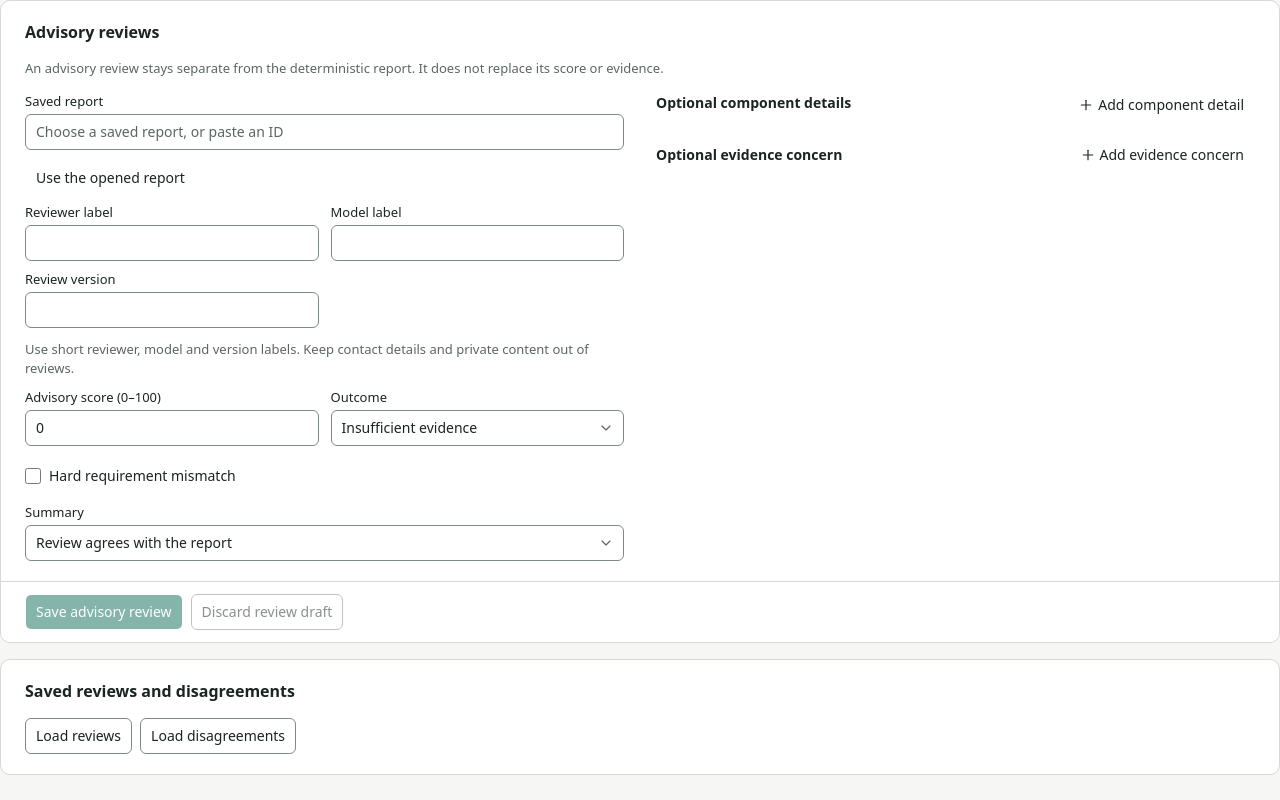
Test: advisory review audit fixes › clamps the earned points to the new weight when the component changes
Check: the field labelled "Reviewer label" is enabled, box x1=25 y1=224 x2=318 y2=260
Click the button with test id "addComponentDetailButton" at (1161, 104), box x1=1067 y1=88 x2=1255 y2=120
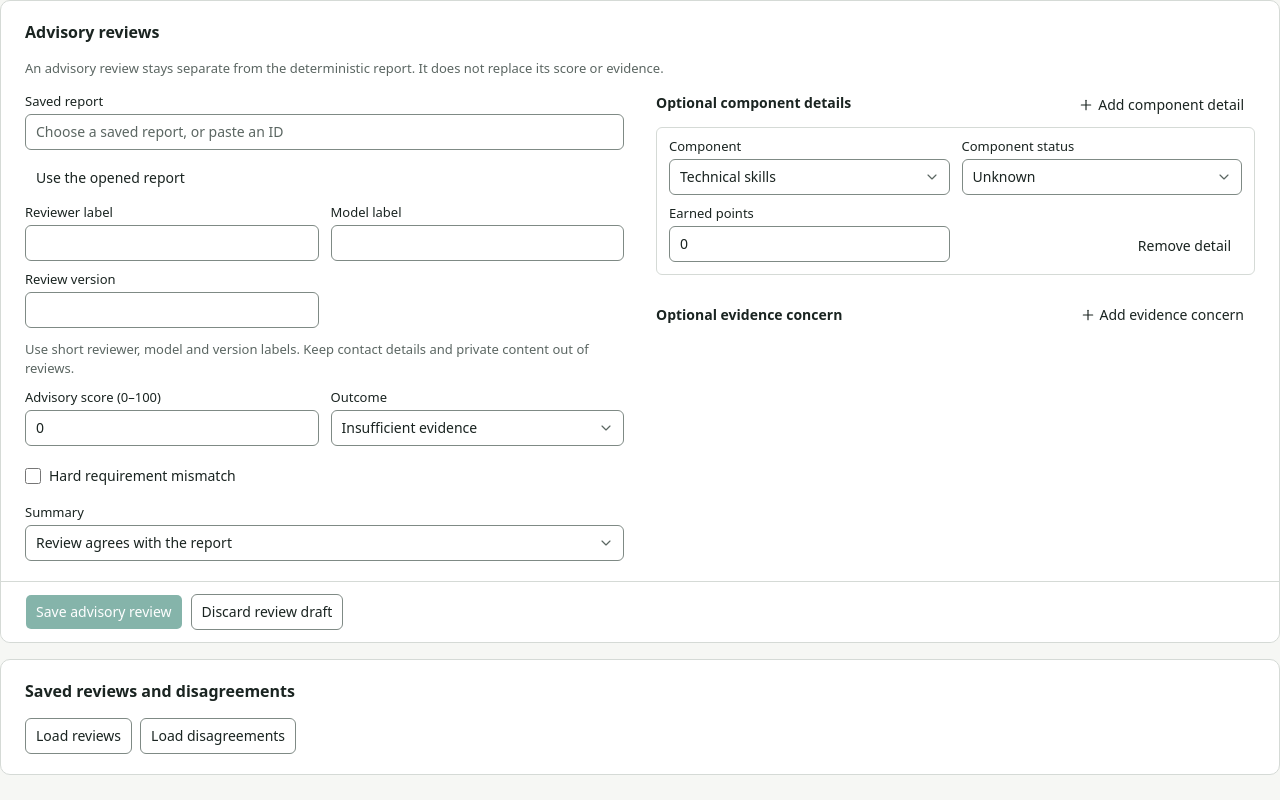
Replace the text in the number field labelled "Earned points" with "30" at (809, 244), box x1=669 y1=226 x2=950 y2=262
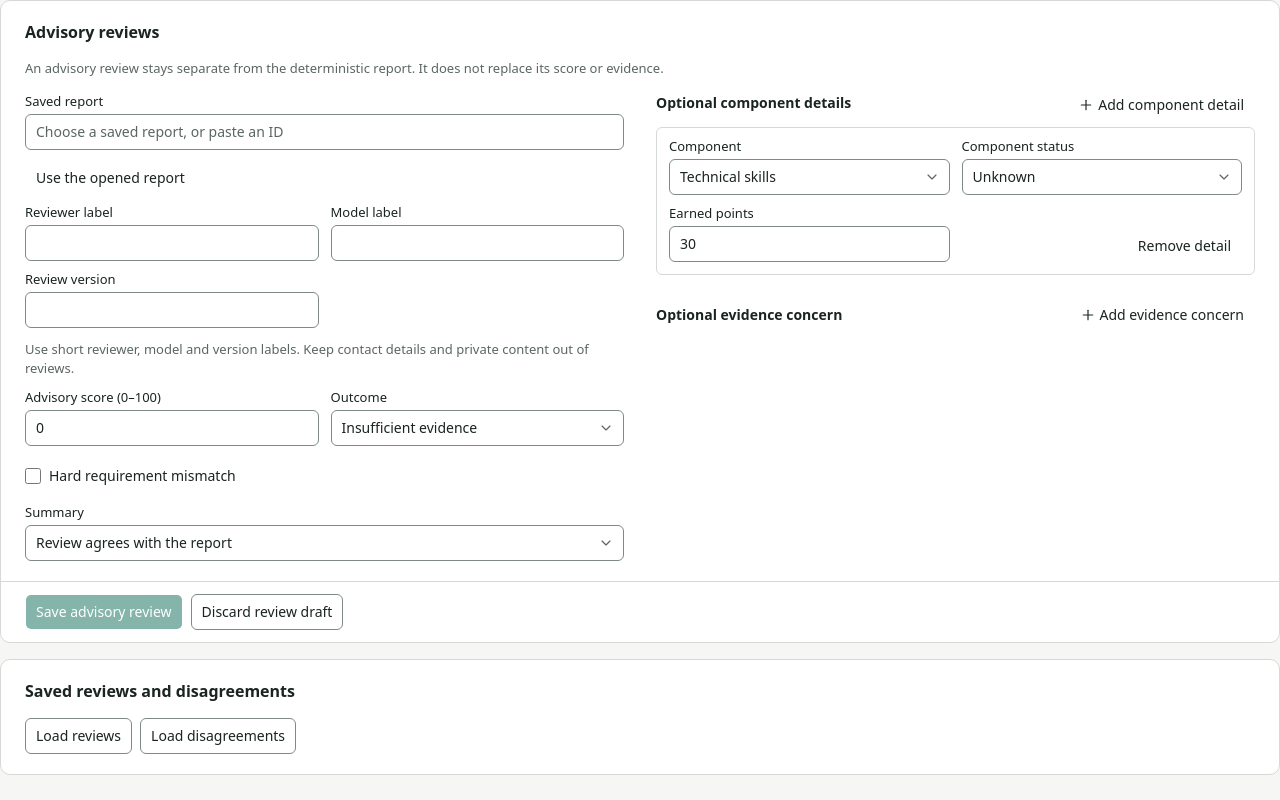
Select "Domain" in the dropdown labelled "Component" at (809, 176), box x1=669 y1=158 x2=950 y2=194
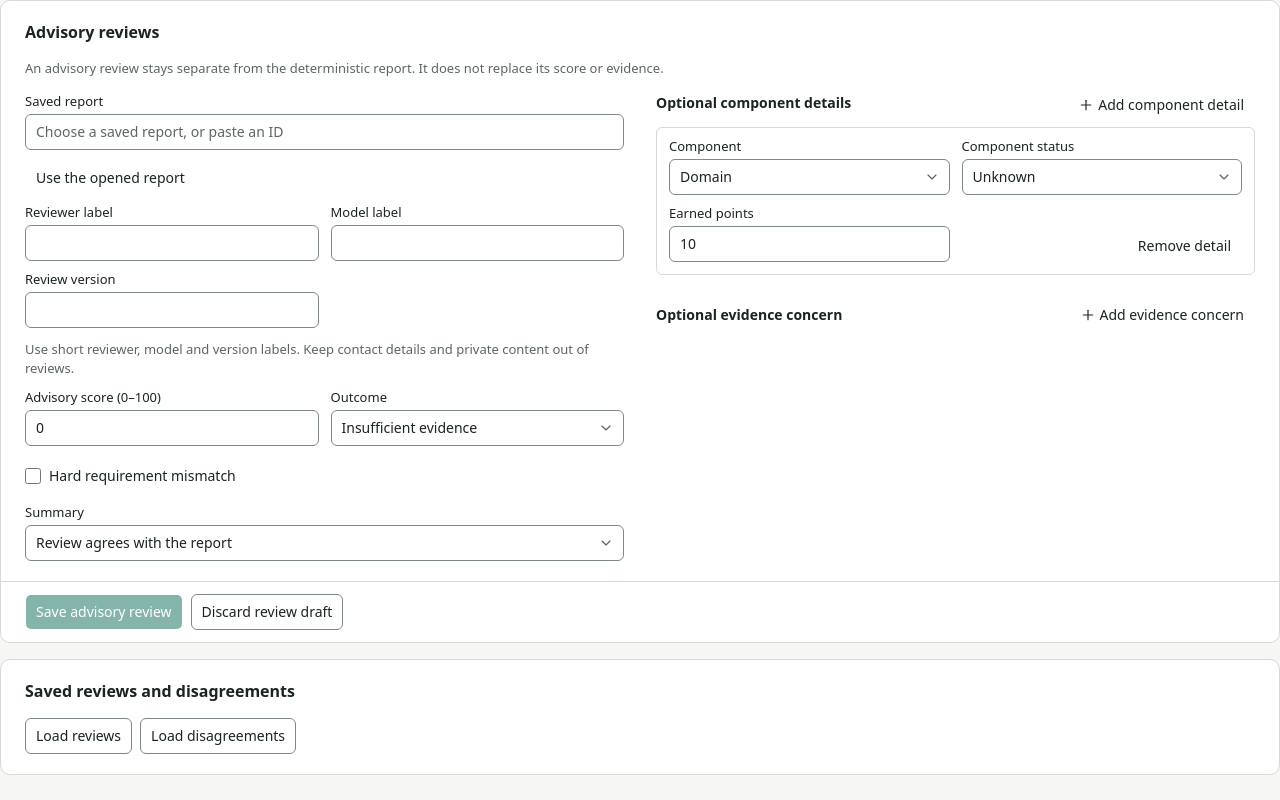
Check: the number field labelled "Earned points" holds "10", box x1=669 y1=226 x2=950 y2=262
